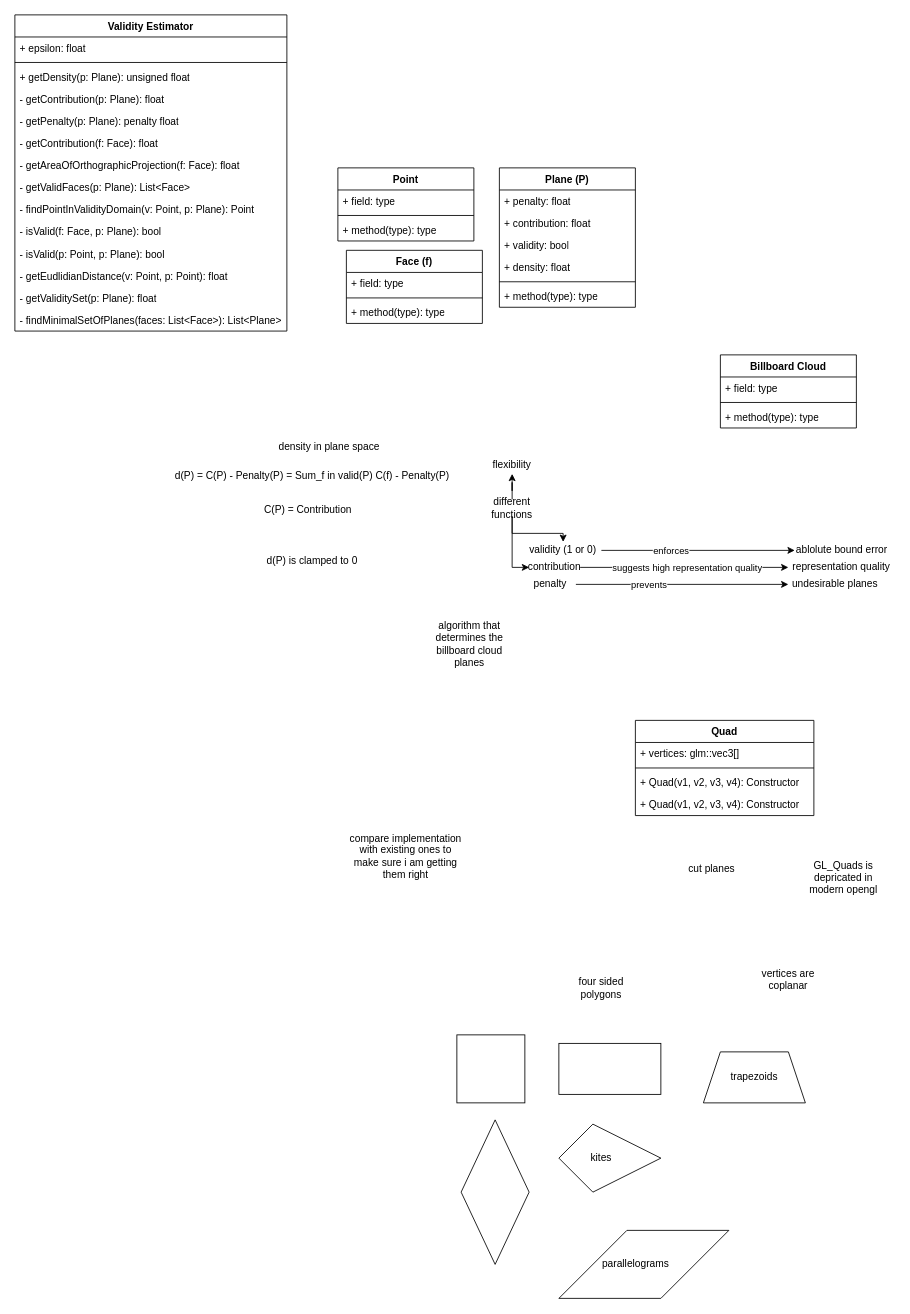
The diagram is 910 pixels wide and 1314 high, and some of its shapes have lost their labels. The centre of each missing label's shape, as x and y in pixels:
"rectangles" goes at [609,1068].
"rhombuses" goes at [494,1191].
"squares" goes at [490,1068].
